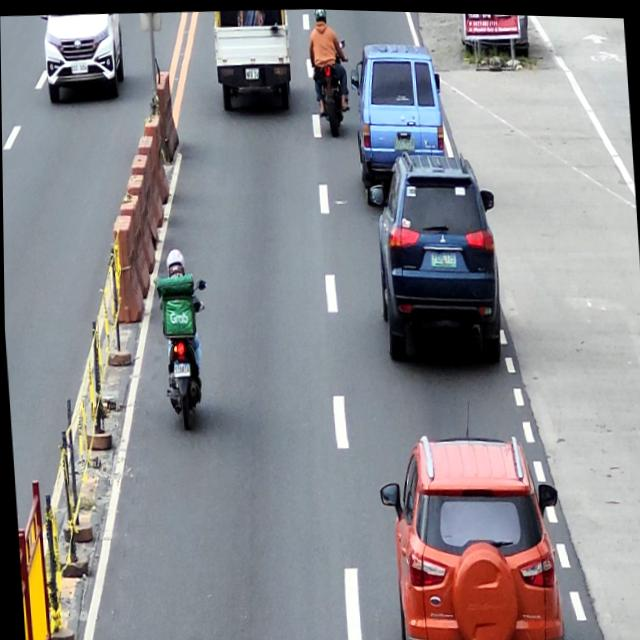Car: (375, 425, 566, 640), (369, 145, 505, 368), (348, 38, 448, 205), (41, 11, 127, 104)
License-Plate: (430, 246, 456, 266), (394, 133, 415, 150), (173, 361, 190, 376), (70, 62, 88, 74), (245, 66, 260, 79)
Motorcycle: (157, 275, 214, 429), (311, 36, 354, 138)
Truck: (211, 6, 294, 117)
